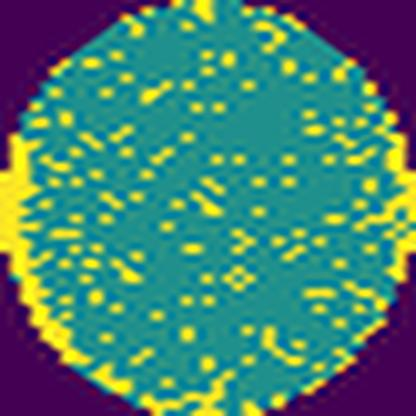Edge-Loc: (0, 133, 89, 372), (381, 105, 414, 297)
